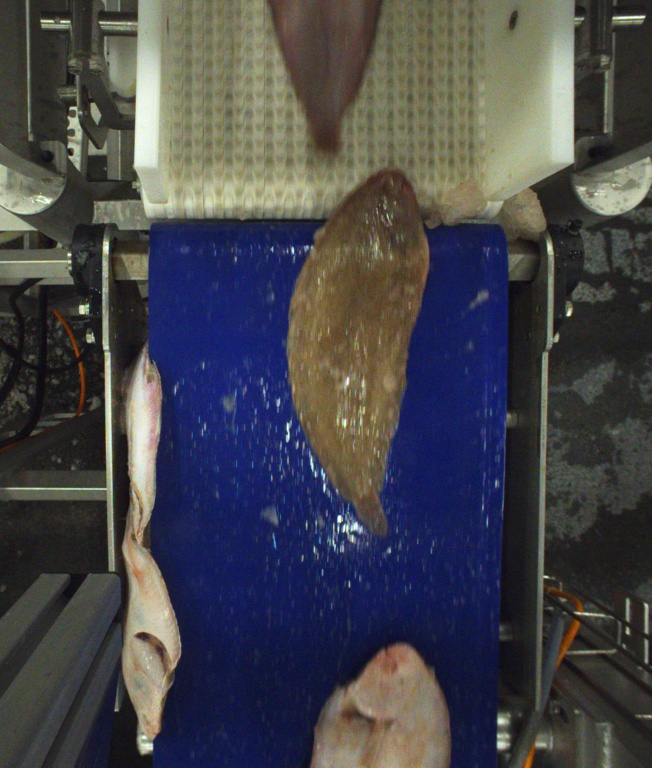SOL: (265, 0, 382, 159)
